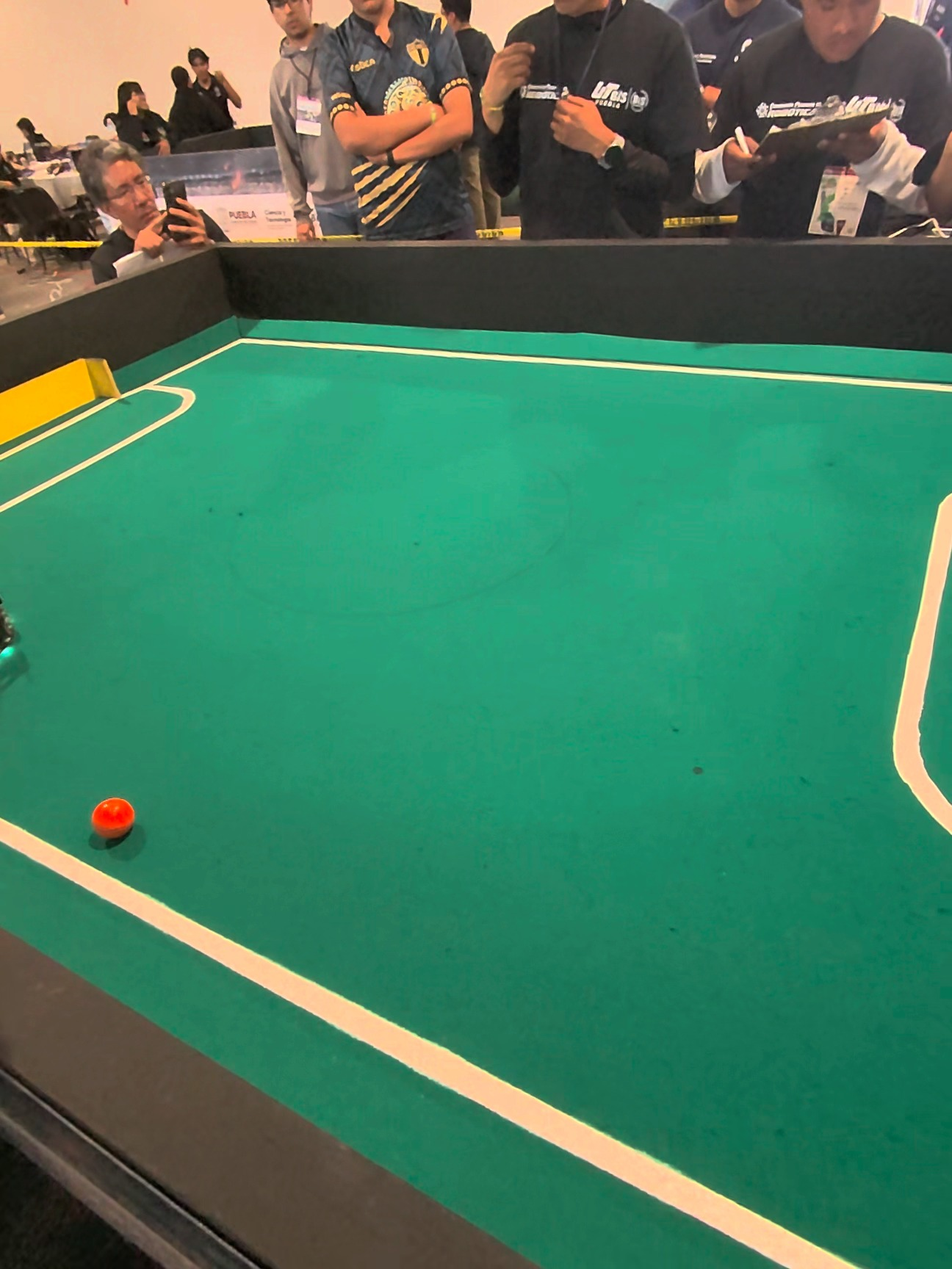Robot: (0, 582, 51, 688)
pelota: (89, 795, 135, 849)
